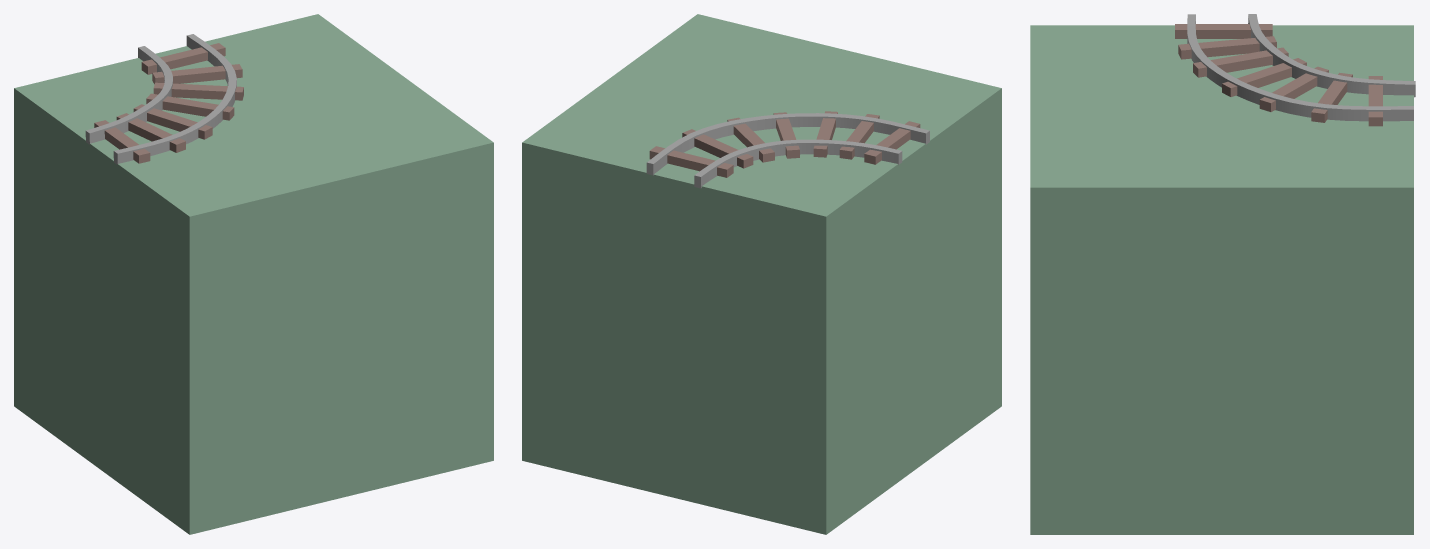
File: Track_Corner_Right.fbx
3 renders of one model, left to right at view 1: azimuth 30°, elevation 25°; view 2: azimuth 150°, elevation 25°; view 3: azimuth 270°, elevation 25°, orthographic. The views are drawn at different scales.
Visible parts, largest first — view 1: Vloer13; view 2: Vloer13; view 3: Vloer13.
Part boxes in pixels (x1,y1,x2,y2): Vloer13: (14,14,493,534); Vloer13: (522,14,1001,534); Vloer13: (1030,14,1415,534).
Bounding box in the file's own units: 1 × 1.04 × 1.
